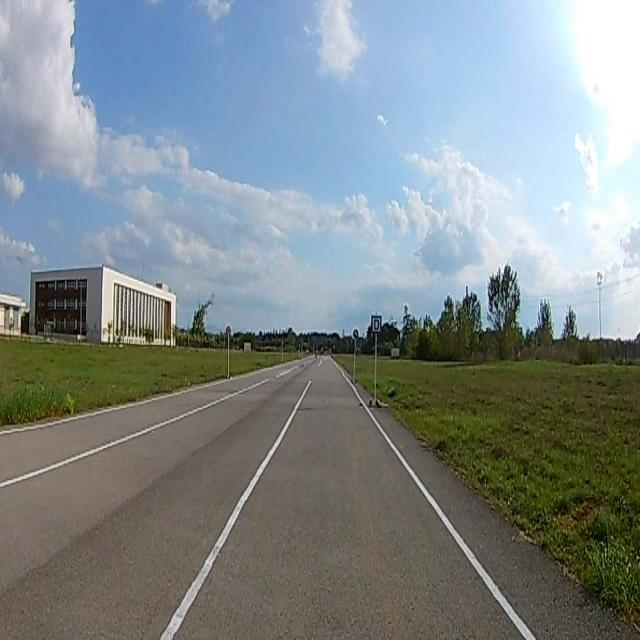durak: (372, 316, 381, 332)
